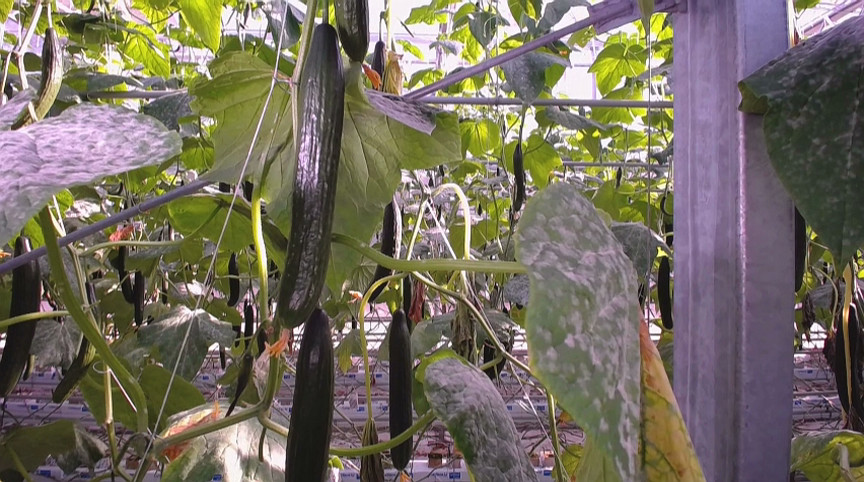cucumber: (278, 23, 348, 327), (284, 308, 335, 482), (1, 235, 42, 401), (10, 25, 65, 132), (365, 195, 402, 302), (389, 310, 413, 470), (51, 338, 97, 406), (837, 303, 864, 414), (334, 1, 371, 62), (656, 256, 674, 334), (226, 252, 241, 308), (513, 144, 524, 213), (132, 269, 145, 327)
